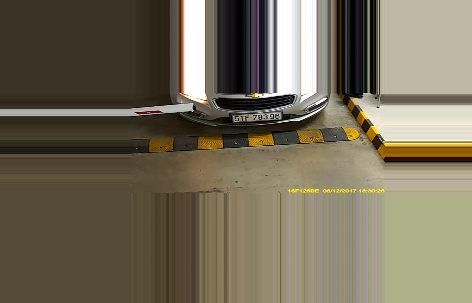plate: (229, 110, 283, 124)
